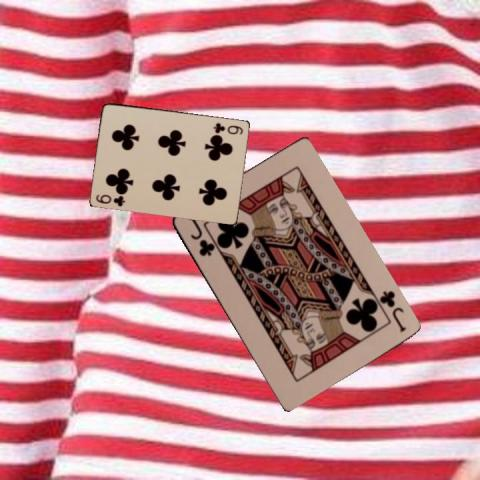6c: (210, 119, 244, 136), (93, 192, 127, 208)
Jc: (376, 287, 407, 334), (184, 212, 214, 258)
